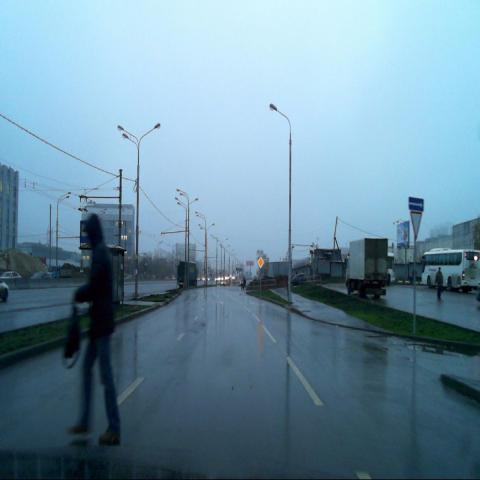5_7_1: (408, 197, 424, 211)
